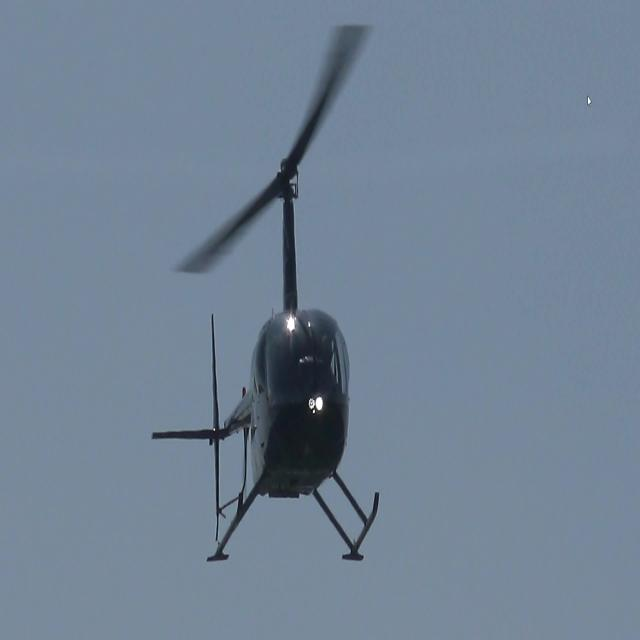CIV_HELO: (148, 158, 382, 566)
